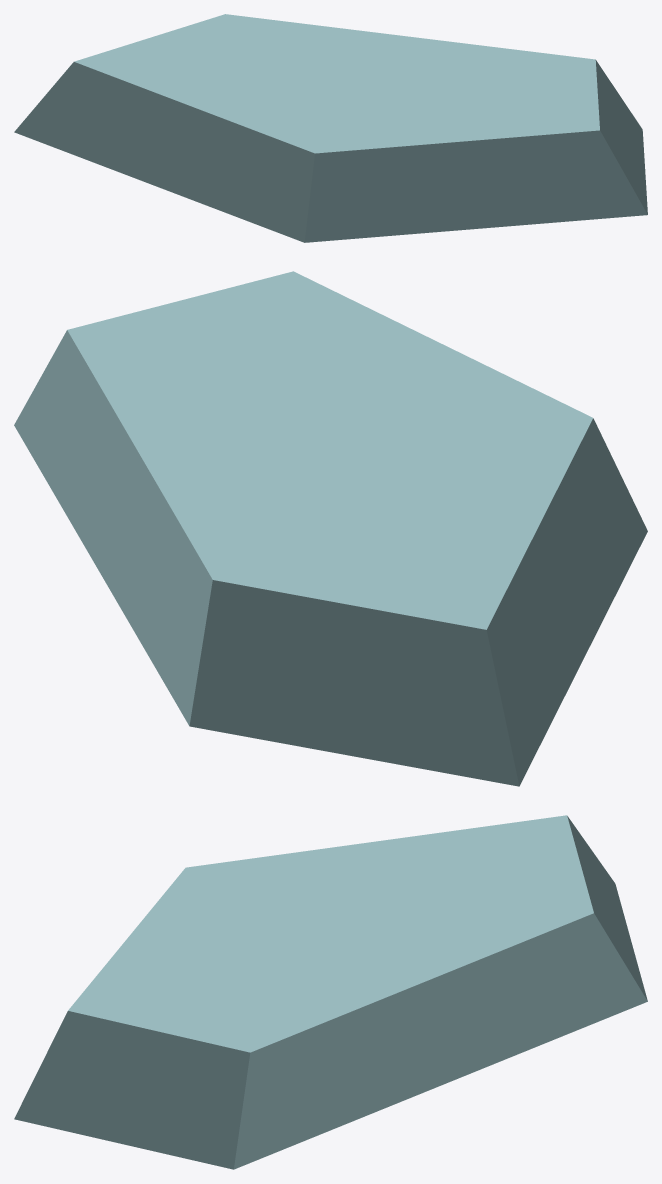
The model's file is stone_smallFlat2.obj.
The picture shows the model from 3 angles, top to bottom: view 1: azimuth 30°, elevation 25°; view 2: azimuth 150°, elevation 25°; view 3: azimuth 270°, elevation 25°; orthographic projection. The views are drawn at different scales.
Parts seen in each view (by area): view 1: stone_smallFlat2; view 2: stone_smallFlat2; view 3: stone_smallFlat2.
Part boxes in pixels (bbox=[...]): stone_smallFlat2: bbox=[14, 14, 647, 242]; stone_smallFlat2: bbox=[14, 271, 647, 786]; stone_smallFlat2: bbox=[14, 815, 647, 1169].
Bounding box in the file's own units: 4.3 × 0.6494 × 4.02.
